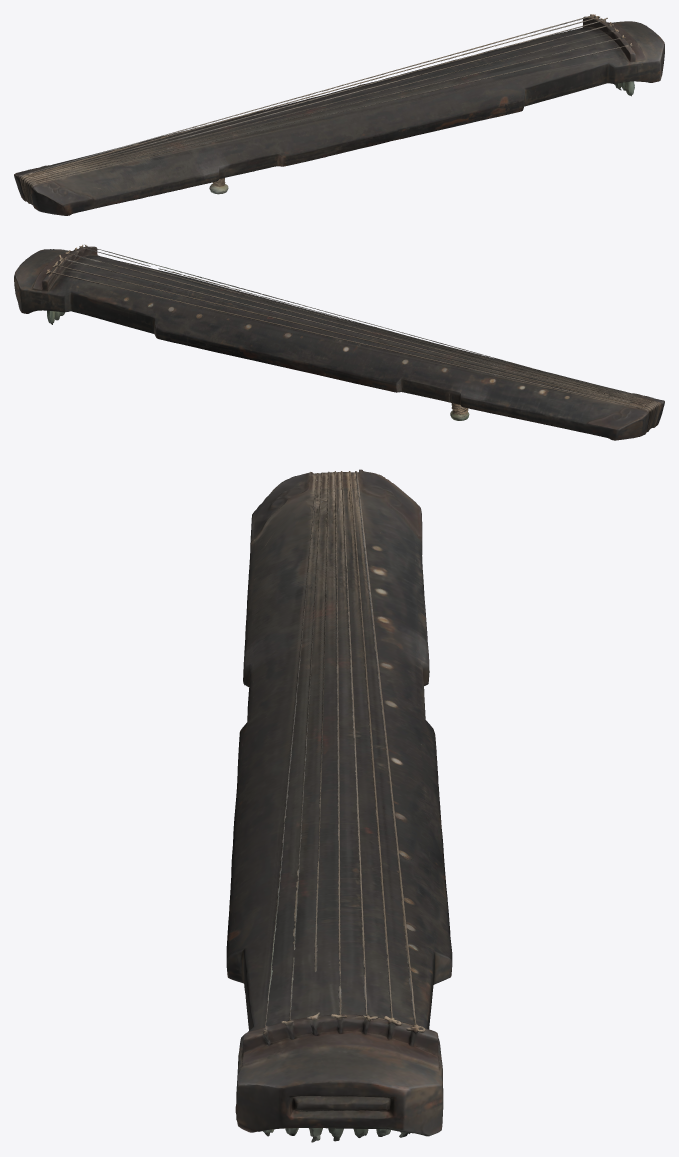
3 views of the same model, one above another, from view 1: azimuth 30°, elevation 25°; view 2: azimuth 150°, elevation 25°; view 3: azimuth 270°, elevation 25° (orthographic). The views are drawn at different scales.
Visible parts, largest first — view 1: ADVIMG_1999_93_Guqin_ADVIMG_1999_93_Guqin_ADVIMG_1999_93_Guq; view 2: ADVIMG_1999_93_Guqin_ADVIMG_1999_93_Guqin_ADVIMG_1999_93_Guq; view 3: ADVIMG_1999_93_Guqin_ADVIMG_1999_93_Guqin_ADVIMG_1999_93_Guq.
Part boxes in pixels (x1,y1,x2,y2): ADVIMG_1999_93_Guqin_ADVIMG_1999_93_Guqin_ADVIMG_1999_93_Guq: [14, 14, 664, 215]; ADVIMG_1999_93_Guqin_ADVIMG_1999_93_Guqin_ADVIMG_1999_93_Guq: [14, 244, 664, 440]; ADVIMG_1999_93_Guqin_ADVIMG_1999_93_Guqin_ADVIMG_1999_93_Guq: [226, 469, 452, 1142].
Size of the model in its own units: 1.2 by 0.1157 by 0.1882.
1 material, 1 textured.
